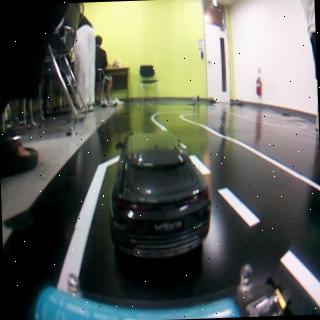car: (102, 128, 219, 262)
